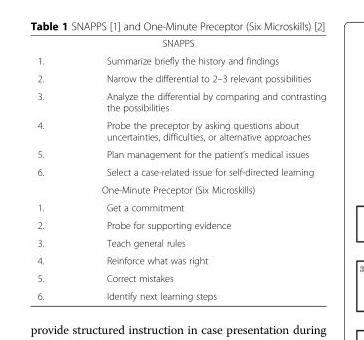table: (36, 37, 325, 301)
table column: (74, 37, 325, 301), (36, 37, 74, 301)
table projected row header: (36, 180, 325, 198), (36, 37, 325, 51)
table row: (36, 87, 325, 116), (36, 116, 325, 145), (36, 51, 325, 69), (36, 69, 325, 87), (36, 162, 325, 180), (36, 180, 325, 198), (36, 215, 325, 233), (36, 233, 325, 251), (36, 251, 325, 269), (36, 145, 325, 162), (36, 198, 325, 215), (36, 269, 325, 286), (36, 286, 325, 301), (36, 37, 325, 51)
